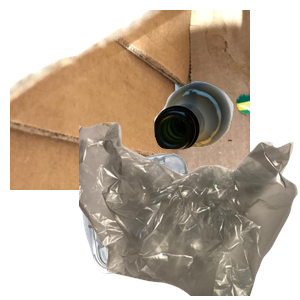cardboard: (10, 10, 250, 190)
glass: (151, 79, 300, 221)
plastic: (76, 151, 270, 300)
trash: (79, 120, 300, 300)
